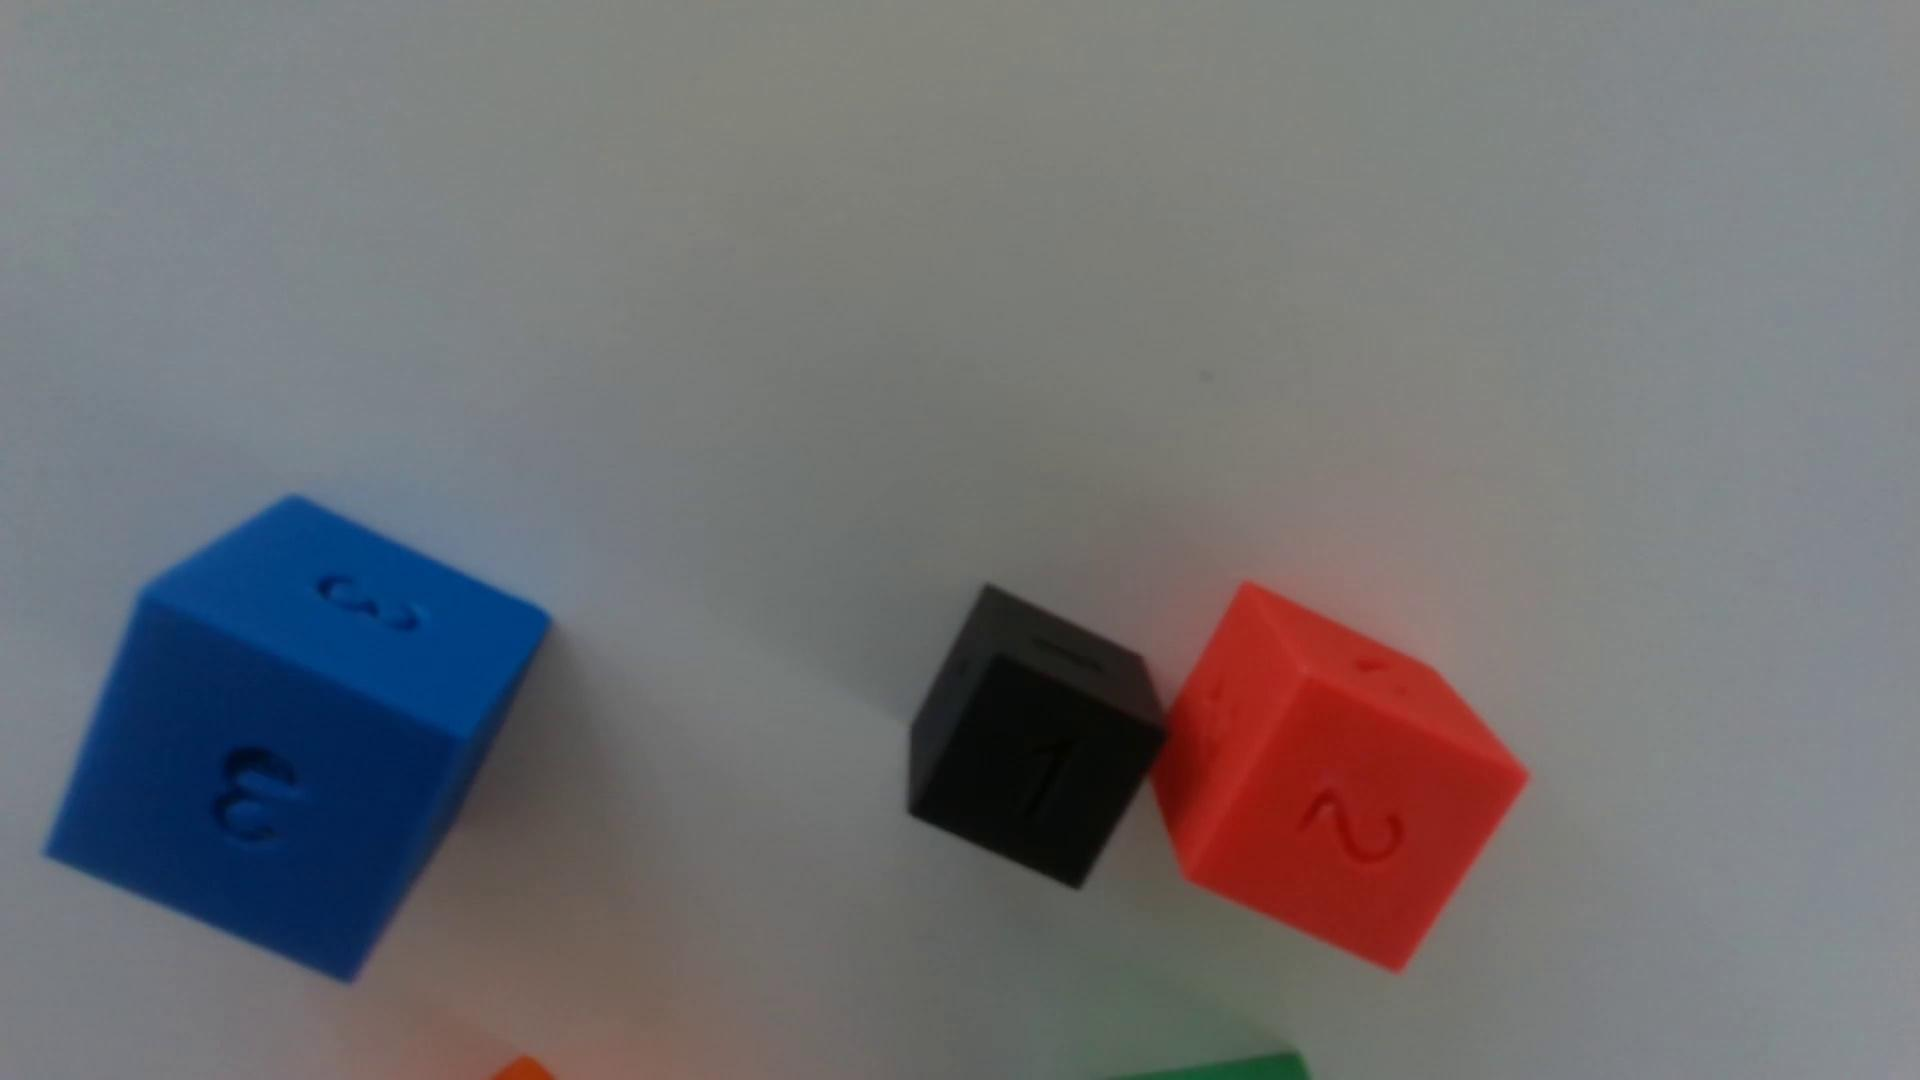black: (906, 585, 1166, 890)
blue: (47, 498, 550, 981)
green: (1126, 1051, 1311, 1080)
orange: (491, 1055, 556, 1080)
red: (1151, 583, 1527, 971)
